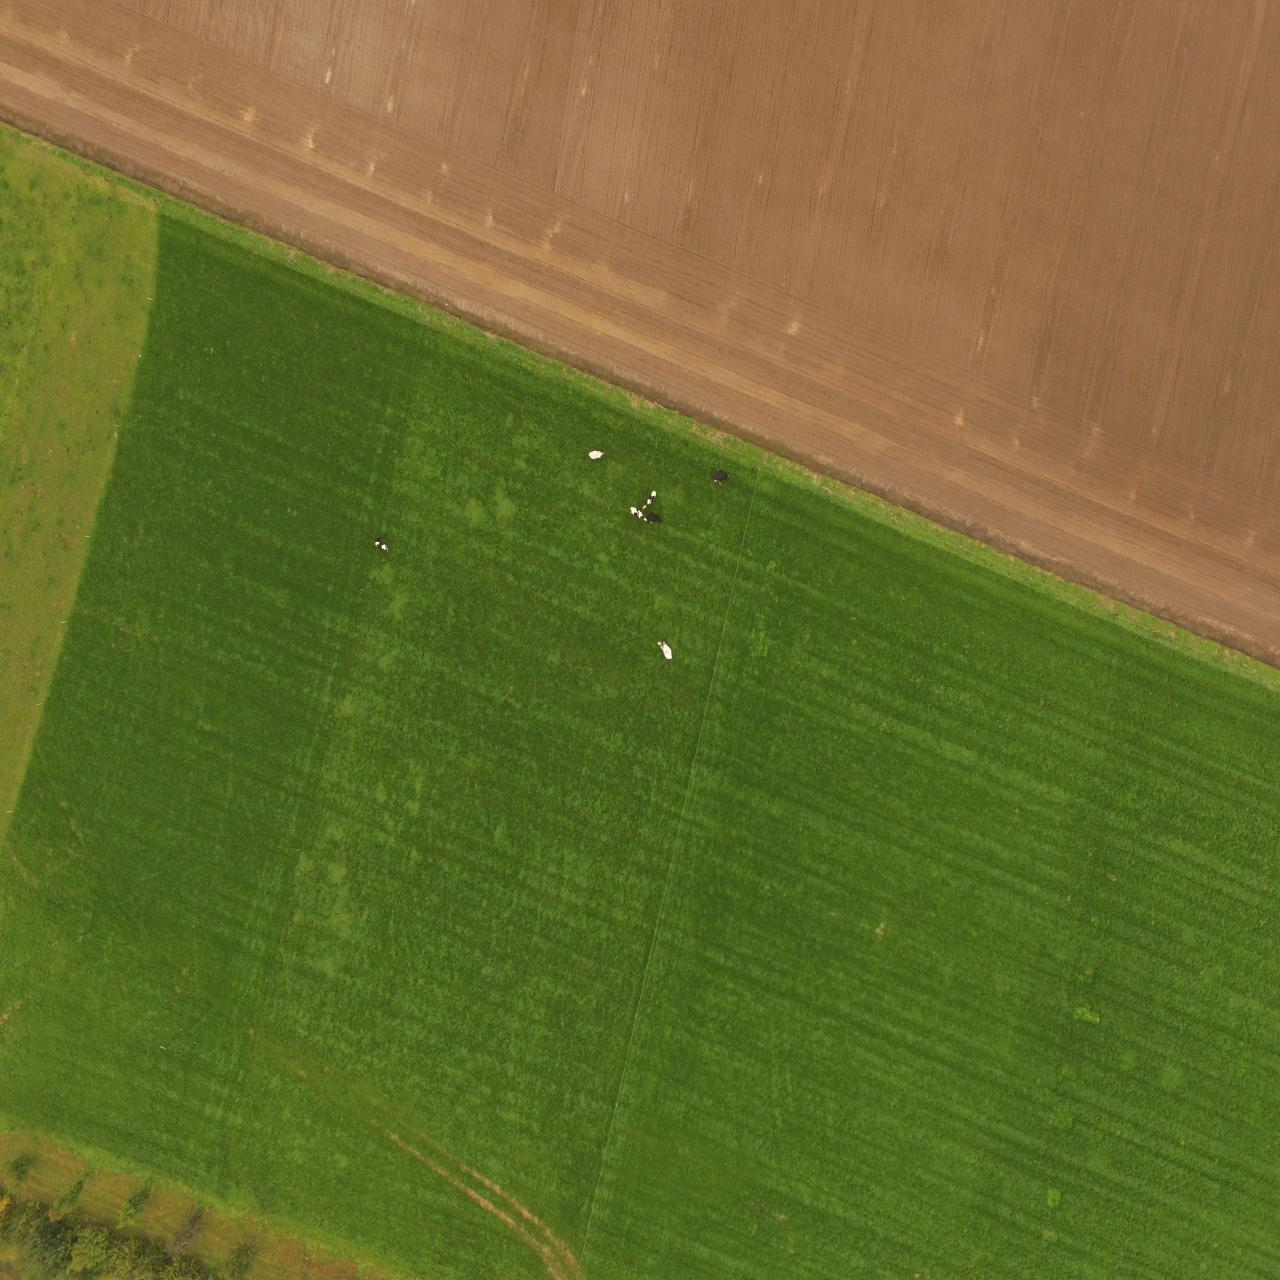cow: (655, 640, 679, 663), (640, 486, 658, 509), (712, 468, 731, 486), (373, 535, 390, 554), (646, 511, 665, 526), (628, 502, 644, 518), (588, 449, 606, 461)
